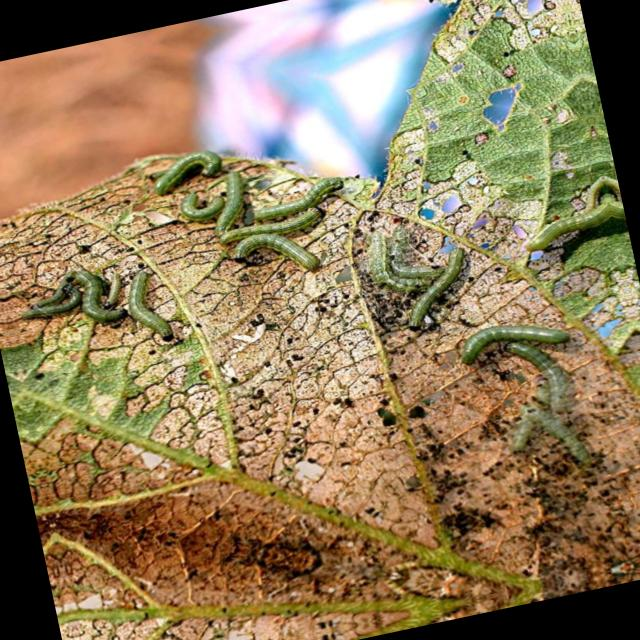Armyworm: (386, 240, 506, 346), (454, 295, 601, 371), (223, 217, 344, 304), (113, 261, 190, 363), (238, 166, 358, 231), (13, 262, 100, 336), (126, 133, 229, 194), (65, 257, 125, 330), (377, 242, 435, 288), (172, 184, 231, 227)
Armyworm_damage: (463, 55, 548, 159), (405, 169, 497, 232), (484, 1, 548, 35)
